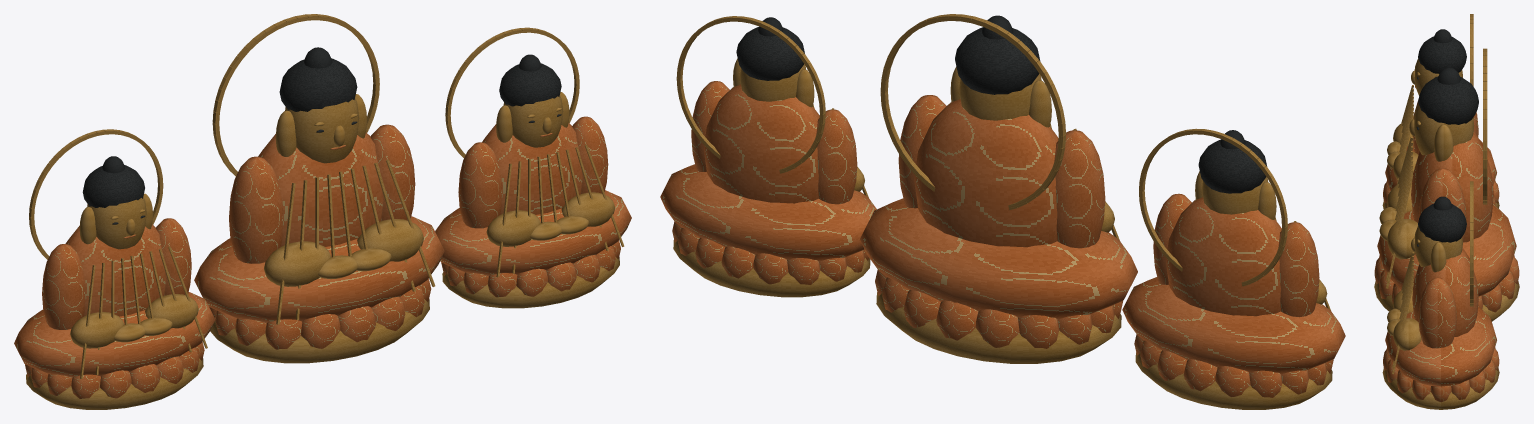
The model's file is hall_statues.glb.
The picture shows the model from 3 angles, left to right: view 1: azimuth 30°, elevation 25°; view 2: azimuth 150°, elevation 25°; view 3: azimuth 270°, elevation 25°; orthographic projection. The views are drawn at different scales.
Parts seen in each view (by area): view 1: hall_statues0; view 2: hall_statues0, hall_statues1; view 3: hall_statues0, hall_statues1.
Boxes of the visible parts, left/top/right/bottom form: hall_statues0: left=14, top=14, right=631, bottom=409; hall_statues0: left=660, top=14, right=1345, bottom=409; hall_statues1: left=676, top=78, right=809, bottom=173; hall_statues0: left=1374, top=14, right=1519, bottom=409; hall_statues1: left=1470, top=270, right=1473, bottom=306.
Size of the model in its own units: 8.88 by 4.13 by 2.24.
1 material, 1 textured.
